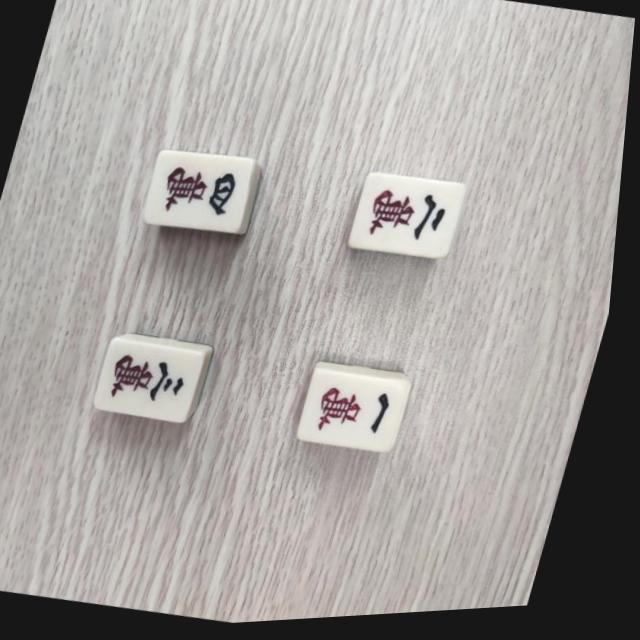sc1: (306, 372, 414, 457)
sc2: (358, 177, 465, 264)
sc3: (102, 340, 206, 425)
sc4: (147, 152, 254, 233)
